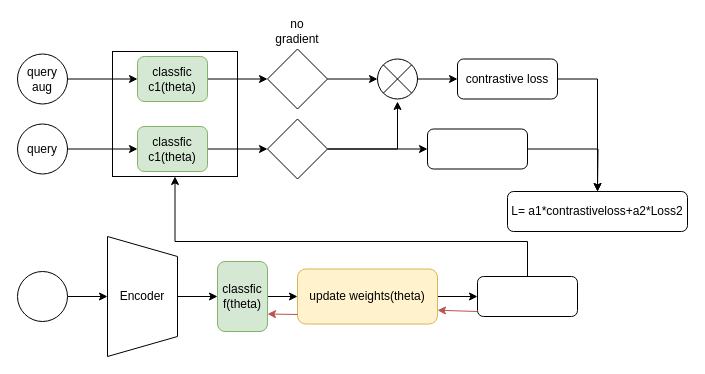
This 705x374 diagram has some shape labels left out. The centre of each missing label's shape, as x and y in pixels:
c1pre: (297,78)
c2pre: (297,148)
Loss2(b2pre,truth): (477,148)
LossSupport: (527,296)
support: (42,296)
